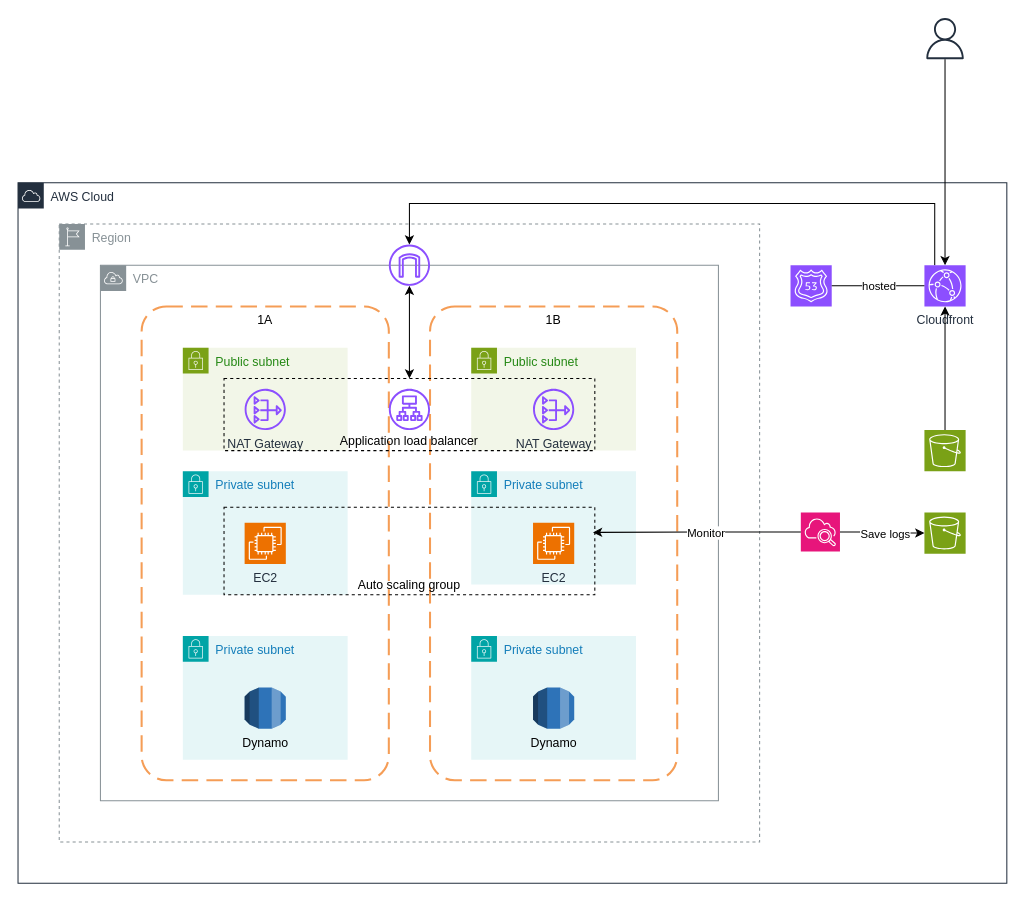
Image size: 1025x901. Some labels were removed from this diagram. Here are the shapes that lost their labels. From the top down, the centre of each, then its label:
At point (944, 38): "User".
At point (409, 264): "Internet Gateway".
At point (810, 285): "Route 53".
At point (944, 450): "S3".
At point (820, 531): "Clould Watch".
At point (944, 532): "S3 logs".
